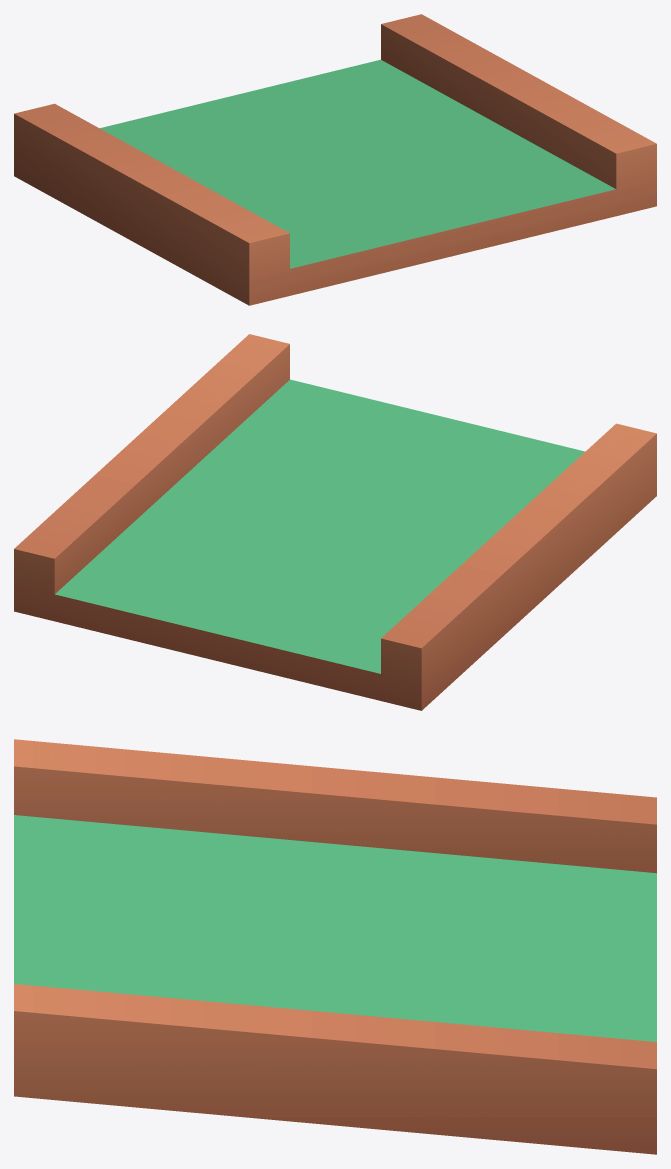
The model's file is ramp-low.glb.
3 renders of one model, top to bottom at view 1: azimuth 30°, elevation 25°; view 2: azimuth 150°, elevation 25°; view 3: azimuth 270°, elevation 25°, orthographic. The views are drawn at different scales.
Parts seen in each view (by area): view 1: ramp-low; view 2: ramp-low; view 3: ramp-low.
Part boxes in pixels (x1,y1,x2,y2): ramp-low: [14, 14, 656, 305]; ramp-low: [14, 334, 656, 710]; ramp-low: [14, 739, 656, 1154].
Bounding box in the file's own units: 0.9999 × 0.2466 × 0.9999.
1 material, 1 textured.
